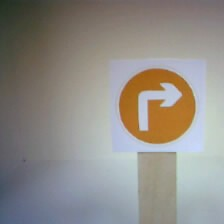right: (109, 59, 204, 152)
